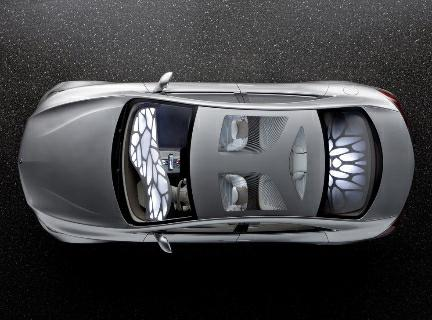奔驰-F800: (15, 65, 417, 267)
